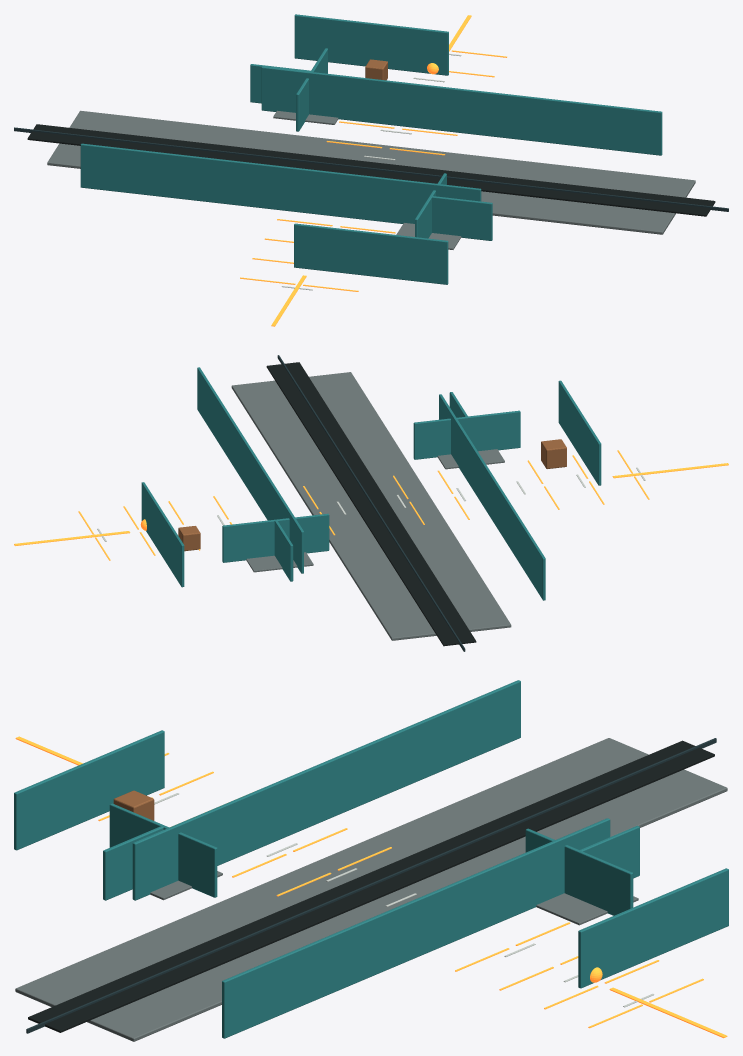
File: saltglass_conveyor_spine_graybox.glb
The picture shows the model from 3 angles, top to bottom: view 1: azimuth 30°, elevation 25°; view 2: azimuth 150°, elevation 25°; view 3: azimuth 270°, elevation 25°; orthographic projection. The views are drawn at different scales.
Parts seen in each view (by area): view 1: GB_CS_BoundaryWall_R_0, GB_CS_Floor_40x8, GB_CS_BoundaryWall_L_1, GB_CS_BoundaryWall_R_1, GB_CS_BoundaryWall_L_0, GB_CS_Conveyor_Belt_B, GB_CS_Conveyor_Belt_A, GB_CS_Alcove_R_Back, GB_CS_BeltRail_A_L, GB_CS_BeltRail_B_L, GB_CS_Alcove_L_Back, GB_CS_Alcove_L_Return_1 (+1 smaller); view 2: GB_CS_Floor_40x8, GB_CS_Conveyor_Belt_B, GB_CS_BoundaryWall_L_1, GB_CS_BoundaryWall_R_0, GB_CS_Conveyor_Belt_A, GB_CS_BoundaryWall_R_1, GB_CS_BoundaryWall_L_0, GB_CS_Alcove_L_Return_0, GB_CS_Alcove_R_Return_1, GB_CS_Alcove_R_Return_0, GB_CS_Alcove_L_Return_1, GB_CS_Alcove_L_Back (+4 smaller); view 3: GB_CS_Floor_40x8, GB_CS_BoundaryWall_L_1, GB_CS_BoundaryWall_R_0, GB_CS_Conveyor_Belt_A, GB_CS_BoundaryWall_L_0, GB_CS_BoundaryWall_R_1, GB_CS_Conveyor_Belt_B, GB_CS_Alcove_L_Return_0, GB_CS_Alcove_R_Return_0, GB_CS_BeltRail_A_L, GB_CS_Alcove_R_Back, GB_CS_Alcove_L_Back (+5 smaller).
Boxes of the visible parts, bbox=[...] form: GB_CS_BoundaryWall_R_0: bbox=[261, 66, 662, 155]; GB_CS_Floor_40x8: bbox=[47, 110, 695, 234]; GB_CS_BoundaryWall_L_1: bbox=[80, 143, 481, 223]; GB_CS_BoundaryWall_R_1: bbox=[294, 223, 448, 284]; GB_CS_BoundaryWall_L_0: bbox=[294, 14, 448, 75]; GB_CS_Conveyor_Belt_B: bbox=[91, 131, 715, 216]; GB_CS_Conveyor_Belt_A: bbox=[27, 124, 651, 209]; GB_CS_Alcove_R_Back: bbox=[431, 196, 492, 240]; GB_CS_BeltRail_A_L: bbox=[14, 127, 629, 198]; GB_CS_BeltRail_B_L: bbox=[78, 135, 692, 206]; GB_CS_Alcove_L_Back: bbox=[250, 64, 310, 103]; GB_CS_Alcove_L_Return_1: bbox=[296, 68, 314, 131]; GB_CS_Floor_40x8: bbox=[231, 372, 511, 640]; GB_CS_Conveyor_Belt_B: bbox=[266, 362, 459, 618]; GB_CS_BoundaryWall_L_1: bbox=[439, 394, 545, 600]; GB_CS_BoundaryWall_R_0: bbox=[197, 367, 303, 573]; GB_CS_Conveyor_Belt_A: bbox=[283, 388, 476, 646]; GB_CS_BoundaryWall_R_1: bbox=[558, 380, 601, 485]; GB_CS_BoundaryWall_L_0: bbox=[141, 482, 184, 587]; GB_CS_Alcove_L_Return_0: bbox=[222, 519, 282, 562]; GB_CS_Alcove_R_Return_1: bbox=[461, 410, 520, 451]; GB_CS_Alcove_R_Return_0: bbox=[413, 416, 473, 459]; GB_CS_Alcove_L_Return_1: bbox=[270, 513, 329, 555]; GB_CS_Alcove_L_Back: bbox=[274, 520, 293, 581]; GB_CS_Floor_40x8: bbox=[15, 738, 727, 1041]; GB_CS_BoundaryWall_L_1: bbox=[132, 680, 520, 900]; GB_CS_BoundaryWall_R_0: bbox=[222, 818, 610, 1038]; GB_CS_Conveyor_Belt_A: bbox=[89, 740, 714, 1006]; GB_CS_BoundaryWall_L_0: bbox=[578, 868, 728, 988]; GB_CS_BoundaryWall_R_1: bbox=[14, 730, 164, 850]; GB_CS_Conveyor_Belt_B: bbox=[28, 766, 653, 1032]; GB_CS_Alcove_L_Return_0: bbox=[572, 848, 633, 915]; GB_CS_Alcove_R_Return_0: bbox=[158, 823, 217, 897]; GB_CS_BeltRail_A_L: bbox=[122, 738, 716, 990]; GB_CS_Alcove_R_Back: bbox=[103, 826, 163, 900]; GB_CS_Alcove_L_Back: bbox=[579, 825, 639, 878].
Bounding box in the file's own units: 34.05 × 3.2 × 34.05.
